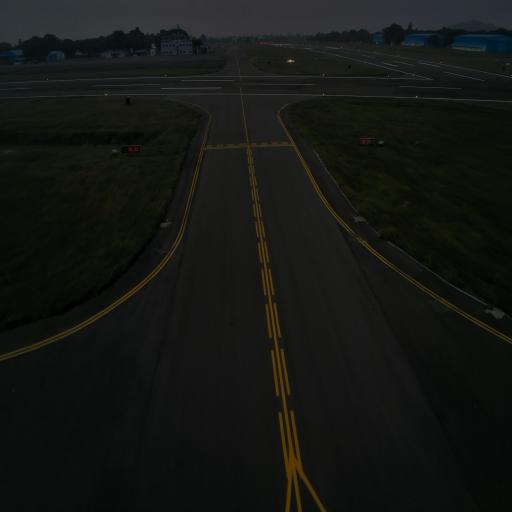on: (165, 216, 169, 226), (354, 212, 357, 219)
